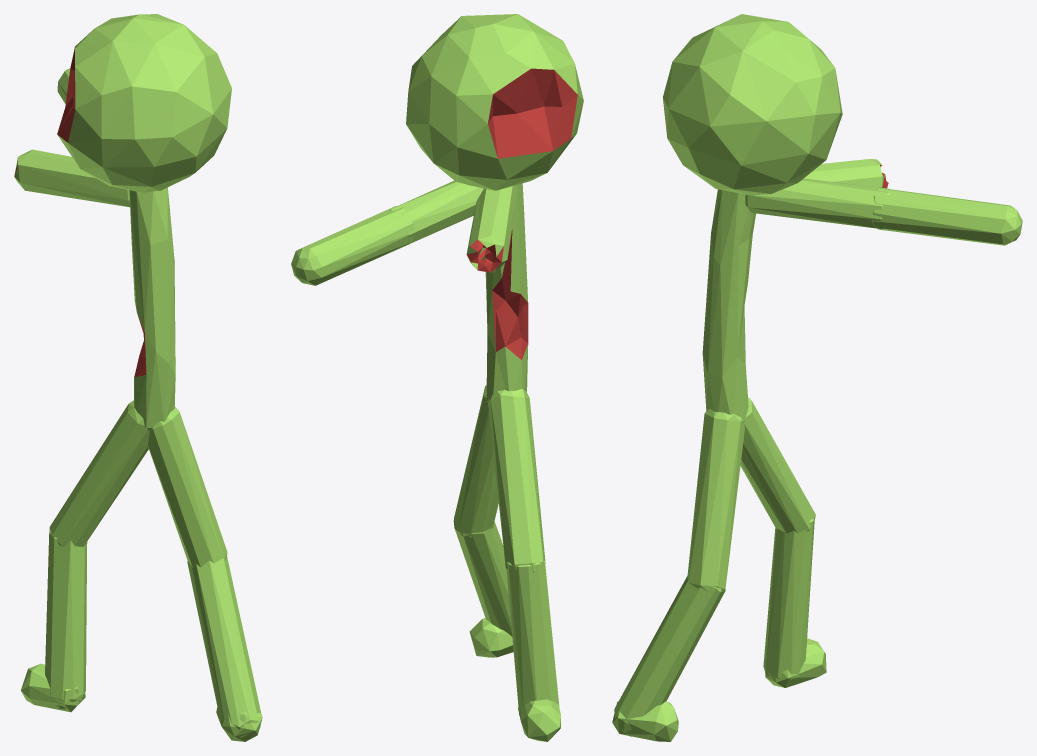
Rendered from low poly zombie 2.fbx.
3 renders of one model, left to right at view 1: azimuth 30°, elevation 25°; view 2: azimuth 150°, elevation 25°; view 3: azimuth 270°, elevation 25°, orthographic.
Parts seen in each view (by area): view 1: Head.001, Body.001, Leg_L_2, Leg_R_2, Leg_L_1, Leg_R_1, Arm_L_1.001, Foot_R, Foot_L; view 2: Head.001, Leg_R_1, Body.001, Leg_R_2, Arm_R_2, Leg_L_1, Leg_L_2, Arm_L_1.001, Arm_R_1, Foot_R, Foot_L; view 3: Head.001, Body.001, Leg_L_1, Leg_L_2, Leg_R_2, Arm_R_2, Leg_R_1, Arm_R_1, Foot_L, Arm_L_1.001, Foot_R.
Boxes of the visible parts, <box> form: Head.001: <box>57,14,231,192</box>; Body.001: <box>129,187,175,431</box>; Leg_L_2: <box>187,556,260,737</box>; Leg_R_2: <box>45,530,87,708</box>; Leg_L_1: <box>148,406,227,567</box>; Leg_R_1: <box>49,400,149,546</box>; Arm_L_1.001: <box>14,149,129,207</box>; Foot_R: <box>21,663,85,712</box>; Foot_L: <box>216,707,262,741</box>; Head.001: <box>406,14,583,190</box>; Leg_R_1: <box>488,389,545,572</box>; Body.001: <box>485,183,528,401</box>; Leg_R_2: <box>506,561,559,715</box>; Arm_R_2: <box>291,206,414,285</box>; Leg_L_1: <box>454,385,498,537</box>; Leg_L_2: <box>453,520,512,636</box>; Arm_L_1.001: <box>466,185,517,272</box>; Arm_R_1: <box>389,180,483,245</box>; Foot_R: <box>518,699,560,741</box>; Foot_L: <box>469,618,513,657</box>; Head.001: <box>663,14,842,195</box>; Body.001: <box>702,189,755,422</box>; Leg_L_1: <box>687,409,744,591</box>; Leg_L_2: <box>614,576,725,736</box>; Leg_R_2: <box>763,519,814,680</box>; Arm_R_2: <box>872,188,1022,245</box>; Leg_R_1: <box>740,397,815,533</box>; Arm_R_1: <box>745,178,889,229</box>; Foot_L: <box>612,701,678,741</box>; Arm_L_1.001: <box>804,159,888,188</box>; Foot_R: <box>764,638,826,687</box>.
Size of the model in its own units: 76.84 by 294 by 158.
